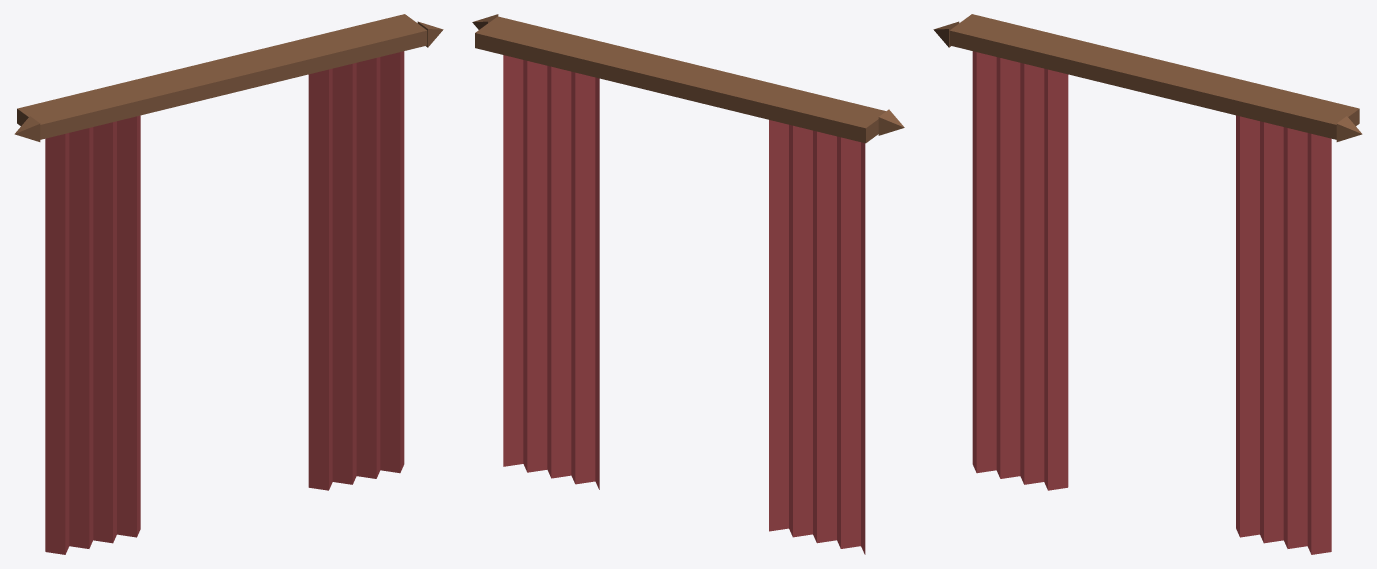
The model's file is Curtain_3.fbx.
3 views of the same model, side by side, from view 1: azimuth 30°, elevation 25°; view 2: azimuth 150°, elevation 25°; view 3: azimuth 330°, elevation 25° (orthographic).
Parts seen in each view (by area): view 1: polySurface2294; view 2: polySurface2294; view 3: polySurface2294.
Part boxes in pixels (left/top/right/bottom): polySurface2294: left=14, top=14, right=443, bottom=554; polySurface2294: left=472, top=14, right=904, bottom=554; polySurface2294: left=933, top=14, right=1362, bottom=554.
Bounding box in the file's own units: 3.16 × 3.08 × 0.2946.
Materials: 1 (1 with a texture image).
